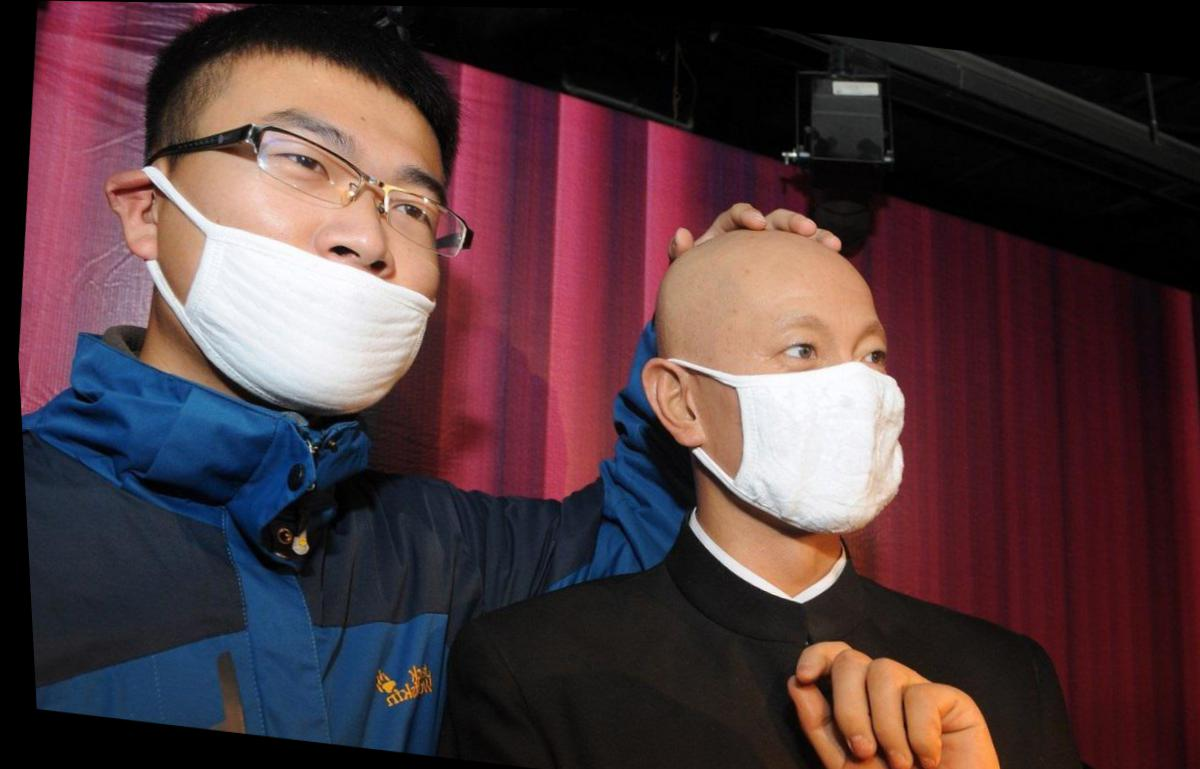OK: (658, 278, 925, 538)
WRONG: (155, 97, 488, 421)
